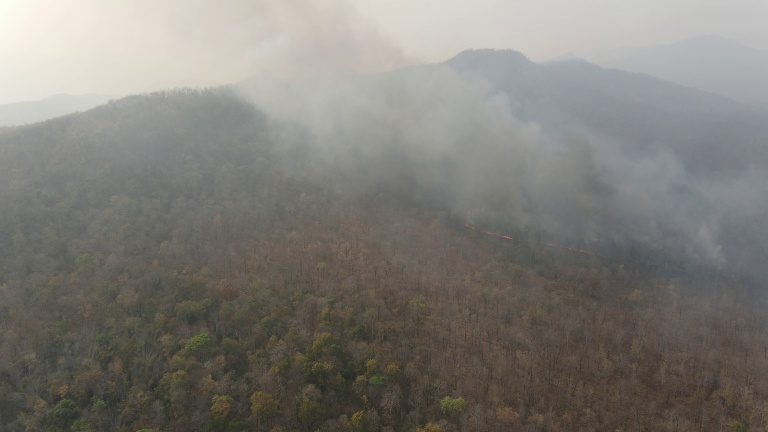fire: (462, 222, 514, 245), (544, 241, 601, 260)
smoke: (226, 5, 595, 227), (563, 127, 768, 262)
